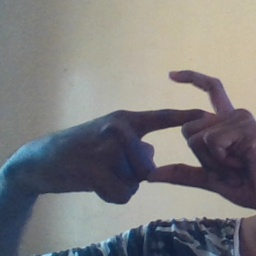E: (118, 65, 237, 185)
